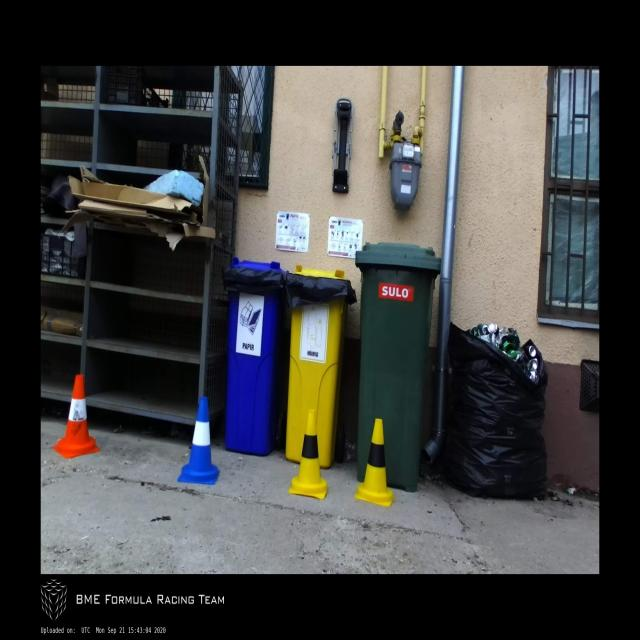blue_cone: (177, 396, 220, 484)
orange_cone: (52, 375, 100, 459)
yellow_cone: (354, 418, 395, 508), (288, 410, 328, 499)
